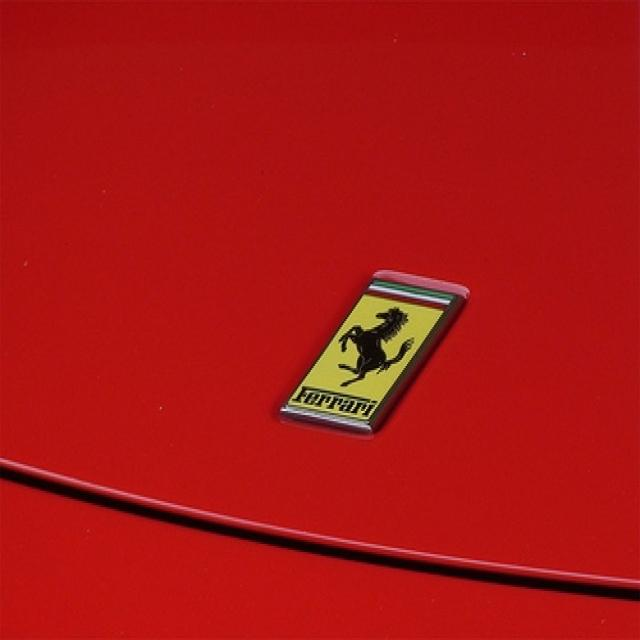ferrari: (288, 277, 457, 426)
